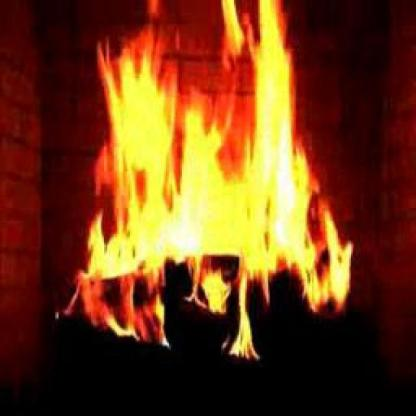fire: (48, 0, 358, 367)
